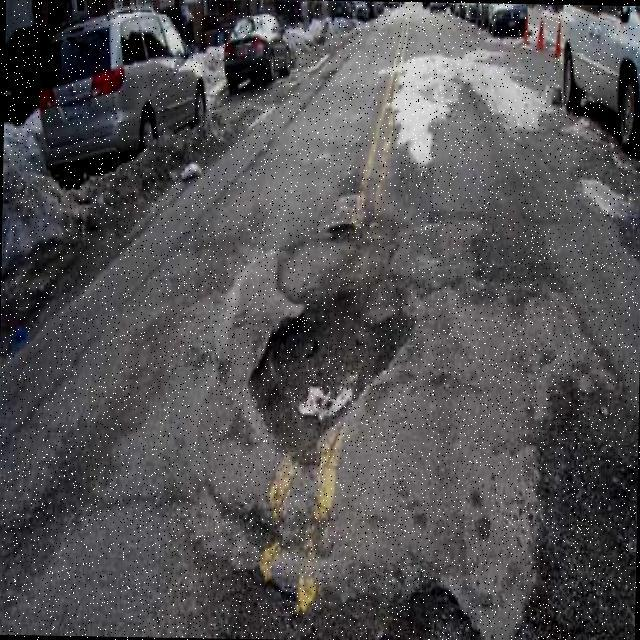Pothole: (245, 270, 416, 459)
